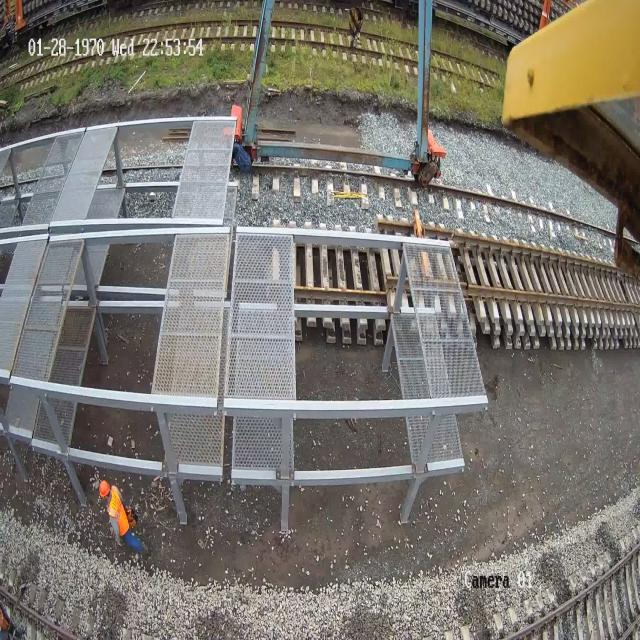Helmet: (99, 480, 110, 498)
Person: (99, 478, 148, 554)
